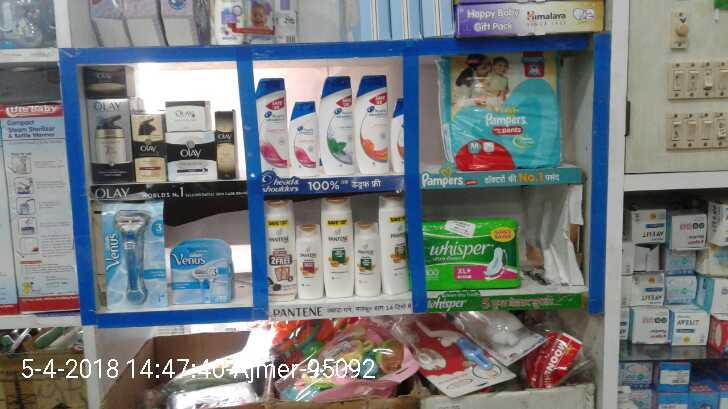venus: (105, 207, 167, 308), (173, 238, 233, 307)
